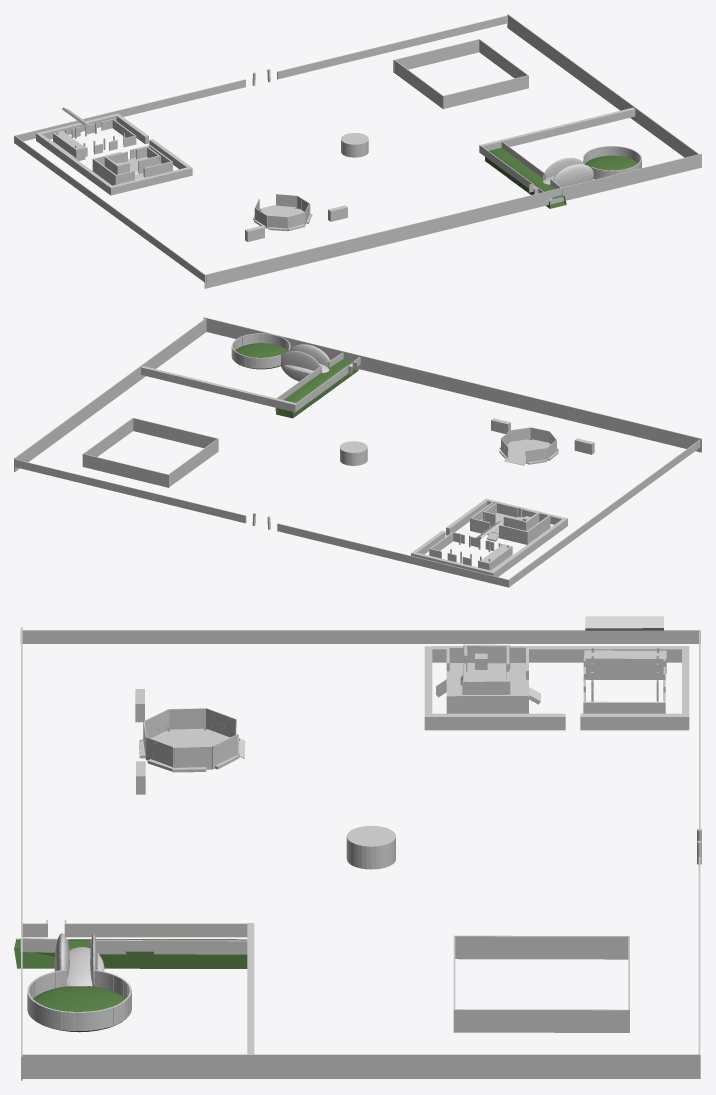
The model's file is plazaPrincipal_colisiones.glb.
3 views of the same model, one above another, from view 1: azimuth 30°, elevation 25°; view 2: azimuth 150°, elevation 25°; view 3: azimuth 270°, elevation 25° (orthographic). The views are drawn at different scales.
Visible parts, largest first — view 1: caja_colision_i.005, caja_colision_i.004, caja_colision_i.003, caja_colision_i.001, caja_colision_i.002, caja_colision_i.008, caja_colision_i.236, caja_colision_i.235, colision_suelo.011, caja_colision_i.010, caja_colision_i.014, caja_colision_i.237 (+7 smaller); view 2: caja_colision_i.005, caja_colision_i.004, caja_colision_i.002, caja_colision_i.003, caja_colision_i.001, caja_colision_i.008, caja_colision_i.235, colision_suelo.011, caja_colision_i.236, caja_colision_i.014, caja_colision_i.069, caja_colision_i.237 (+6 smaller); view 3: caja_colision_i.004, caja_colision_i.001, caja_colision_i.237, caja_colision_i.238, colision_suelo.011, caja_colision_i.032, caja_colision_i.009, caja_colision_i.007, caja_colision_i.Cilindro, caja_colision_i.011, colision_suelo.018, caja_colision_i.014 (+9 smaller).
Part boxes in pixels (<box>): caja_colision_i.005: <box>204,153,701,288</box>; caja_colision_i.004: <box>507,14,698,157</box>; caja_colision_i.003: <box>277,15,507,79</box>; caja_colision_i.001: <box>14,136,206,283</box>; caja_colision_i.002: <box>14,79,245,143</box>; caja_colision_i.008: <box>479,107,635,153</box>; caja_colision_i.236: <box>443,75,528,109</box>; caja_colision_i.235: <box>393,39,479,72</box>; colision_suelo.011: <box>485,148,566,208</box>; caja_colision_i.010: <box>109,166,192,195</box>; caja_colision_i.014: <box>37,134,111,193</box>; caja_colision_i.237: <box>394,60,443,108</box>; caja_colision_i.005: <box>203,317,701,452</box>; caja_colision_i.004: <box>14,318,206,471</box>; caja_colision_i.002: <box>277,523,509,587</box>; caja_colision_i.003: <box>15,459,246,523</box>; caja_colision_i.001: <box>508,439,700,587</box>; caja_colision_i.008: <box>141,366,297,412</box>; caja_colision_i.235: <box>83,454,169,487</box>; colision_suelo.011: <box>275,359,358,418</box>; caja_colision_i.236: <box>133,417,217,448</box>; caja_colision_i.014: <box>490,519,565,576</box>; caja_colision_i.069: <box>281,351,322,381</box>; caja_colision_i.237: <box>168,438,218,486</box>; caja_colision_i.004: <box>22,1054,700,1078</box>; caja_colision_i.001: <box>20,630,700,643</box>; caja_colision_i.237: <box>454,935,628,959</box>; caja_colision_i.238: <box>454,1009,629,1032</box>; colision_suelo.011: <box>14,939,247,968</box>; caja_colision_i.032: <box>64,923,247,937</box>; caja_colision_i.009: <box>425,713,565,730</box>; caja_colision_i.007: <box>90,940,253,954</box>; caja_colision_i.Cilindro: <box>346,825,395,869</box>; caja_colision_i.011: <box>580,713,689,730</box>; colision_suelo.018: <box>33,986,125,1032</box>; caja_colision_i.014: <box>432,646,689,662</box>.
Bounding box in the file's own units: 243 × 21.71 × 164.
